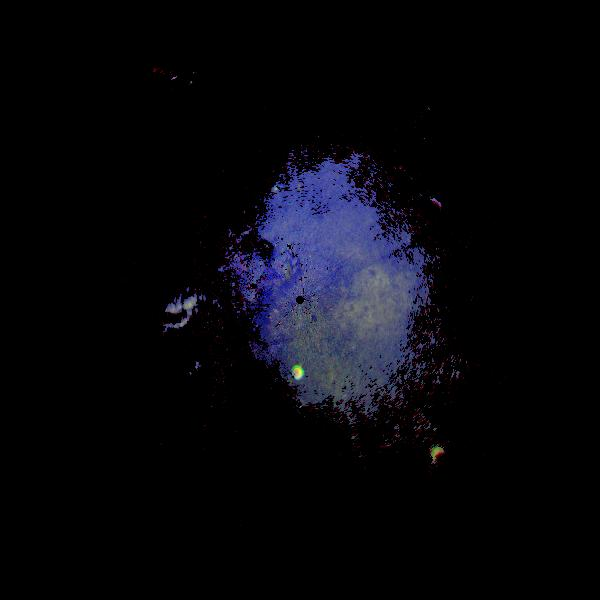roost: (424, 199, 445, 220), (432, 448, 450, 466), (290, 365, 305, 380), (274, 188, 277, 191)
